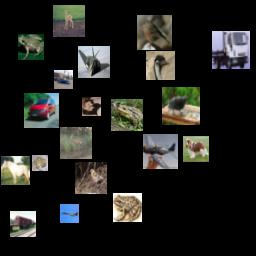airplane: (143, 134, 178, 169), (78, 46, 110, 78), (60, 204, 79, 223)
automobile: (24, 93, 59, 128), (54, 70, 73, 89)
bird: (162, 87, 200, 125), (137, 15, 172, 50), (75, 162, 107, 194), (146, 51, 175, 80)
cat: (82, 97, 101, 116)
deer: (60, 127, 92, 159), (53, 5, 85, 37)
dog: (183, 136, 209, 162)
frog: (111, 99, 143, 131), (113, 193, 142, 222), (18, 34, 44, 60), (32, 155, 48, 171)
truck: (212, 31, 250, 69), (10, 211, 36, 237)
